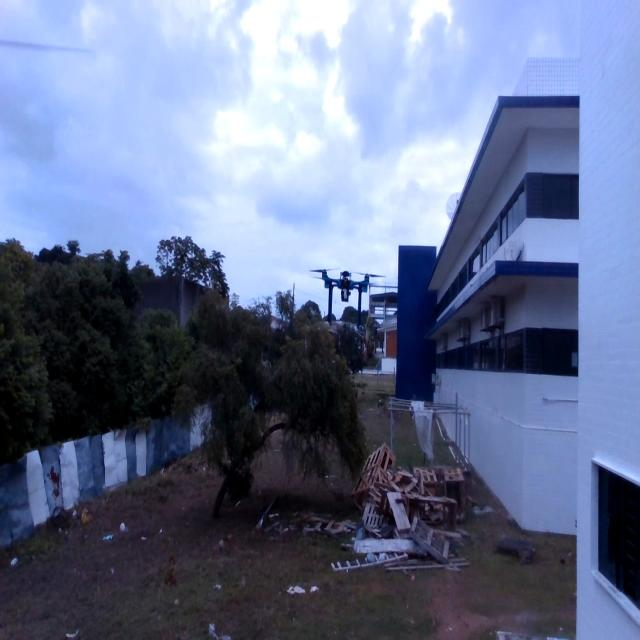-uav-: (308, 252, 388, 323)
